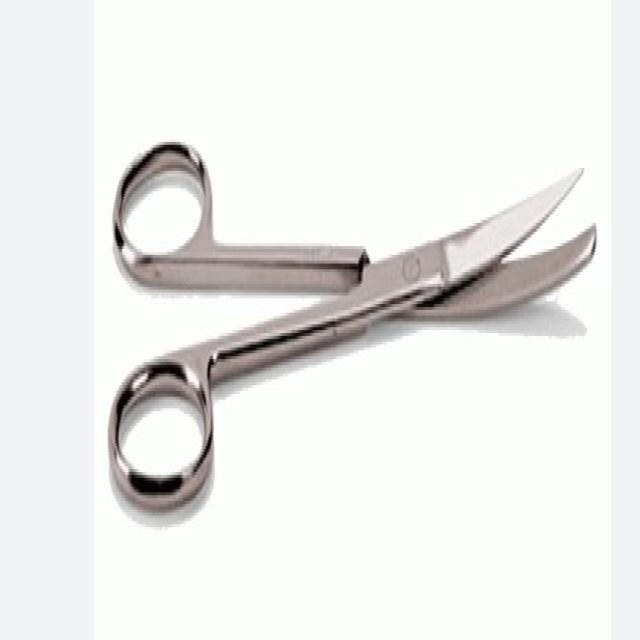Curved Mayo: (106, 125, 598, 518)
